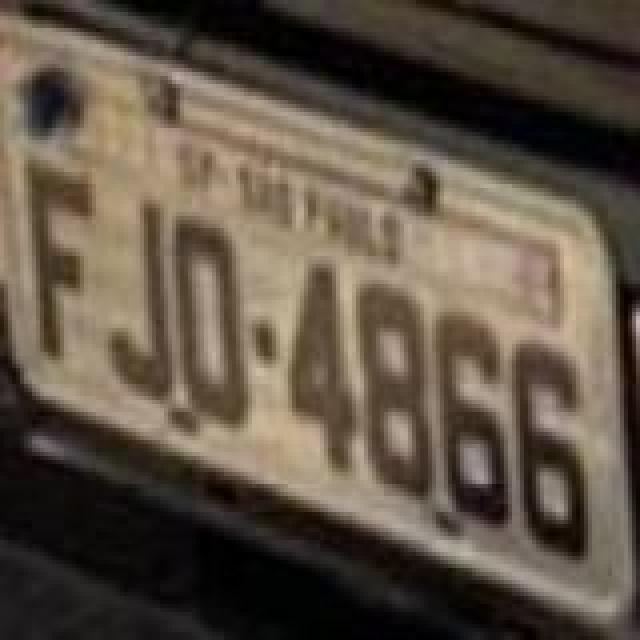4: (282, 258, 358, 478)
6: (432, 308, 512, 532), (512, 336, 592, 560)
8: (354, 284, 438, 500)
F: (26, 164, 94, 364)
J: (106, 196, 174, 404)
O: (168, 214, 248, 426)
